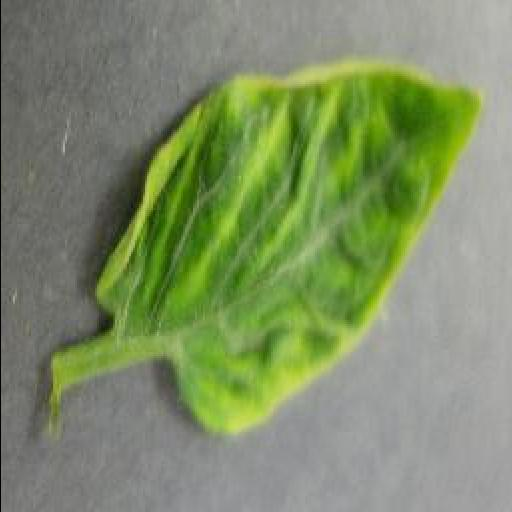disease_tomato: (95, 62, 485, 438)
